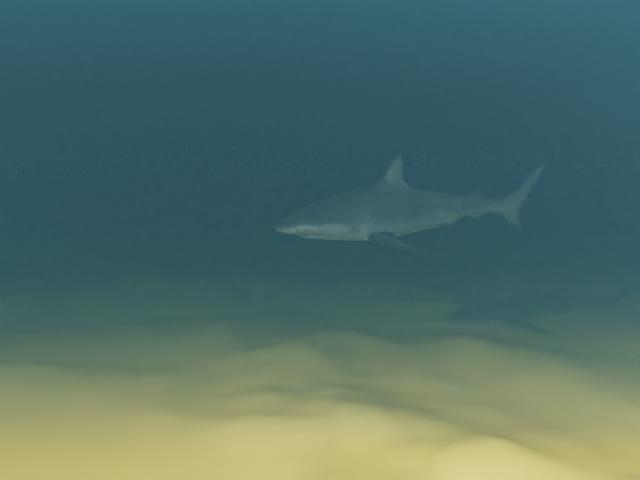Carribean Shark.001: (274, 151, 547, 255)
